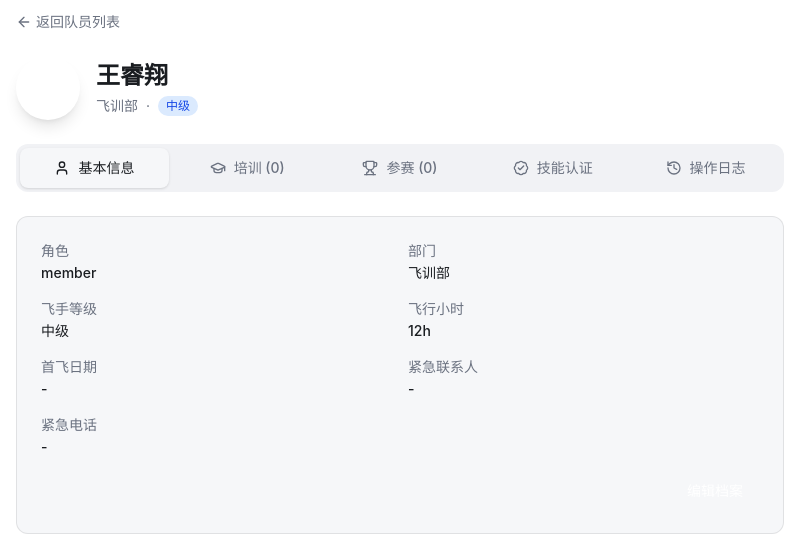
队员档案 · 操作日志 › 没有记录时给出空状态而不是空白
Expected: the heading "王睿翔" is shown, [96, 61, 168, 90]
Click the button "操作日志" at (706, 168), box [631, 148, 780, 188]
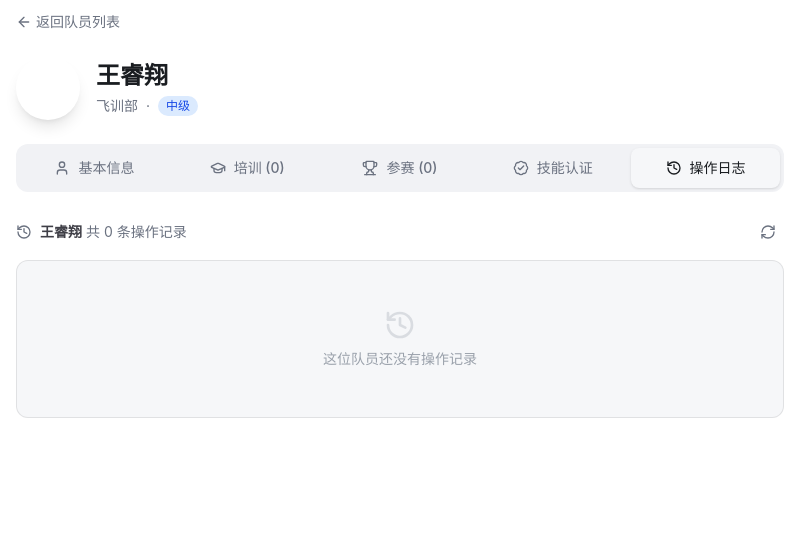
Now the text "这位队员还没有操作记录" is shown, box [323, 350, 477, 367]
